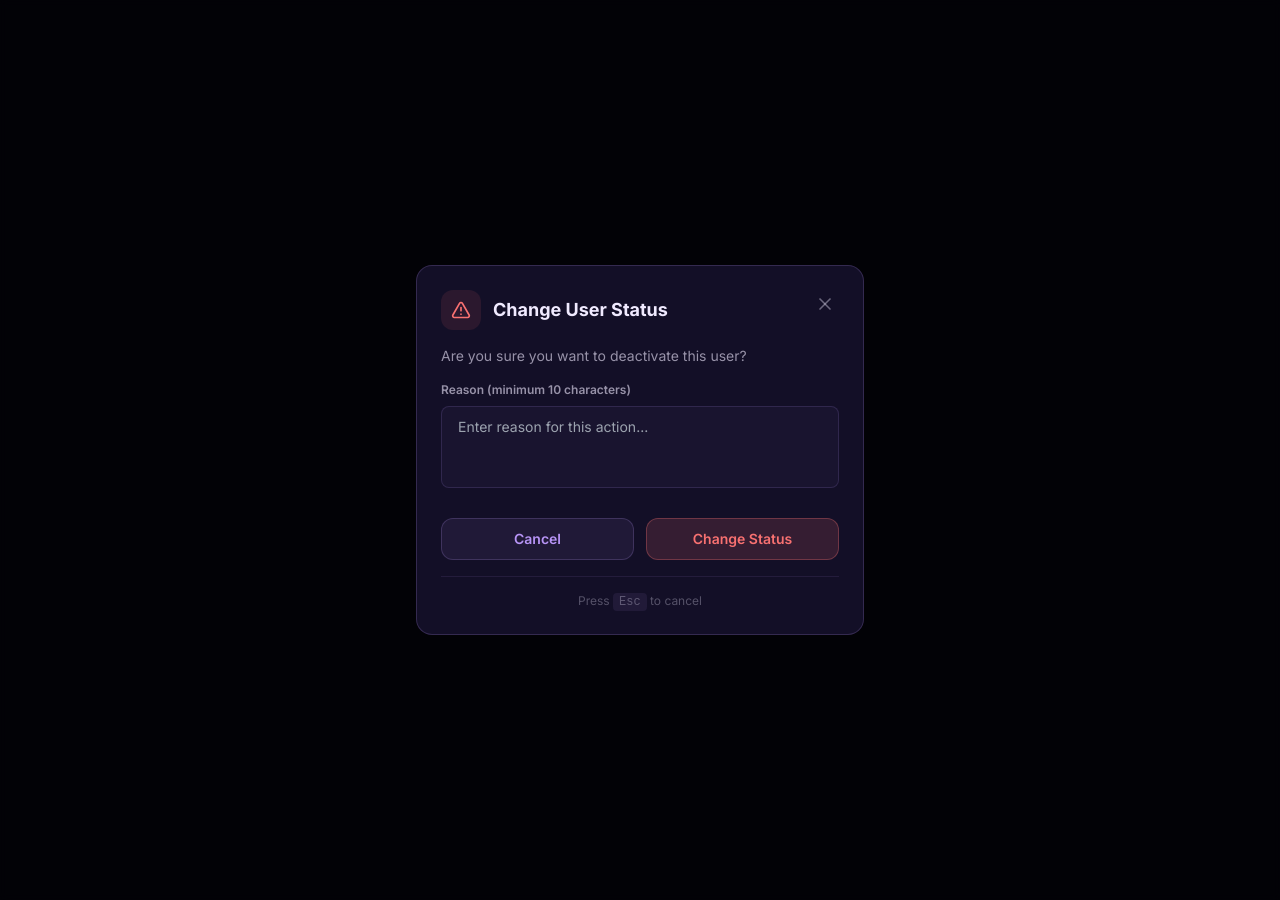
Test case: ConfirmationDialog - Status Change Reason Validation › should require reason input with minimum 10 characters for deactivation
This screenshot has width=1280, height=900.
Expected: the text box with placeholder "Enter reason for this action..." is shown, [441, 406, 839, 488]
// Try to confirm without entering reason
Click the button "Change Status": (742, 539) [646, 518, 839, 560]
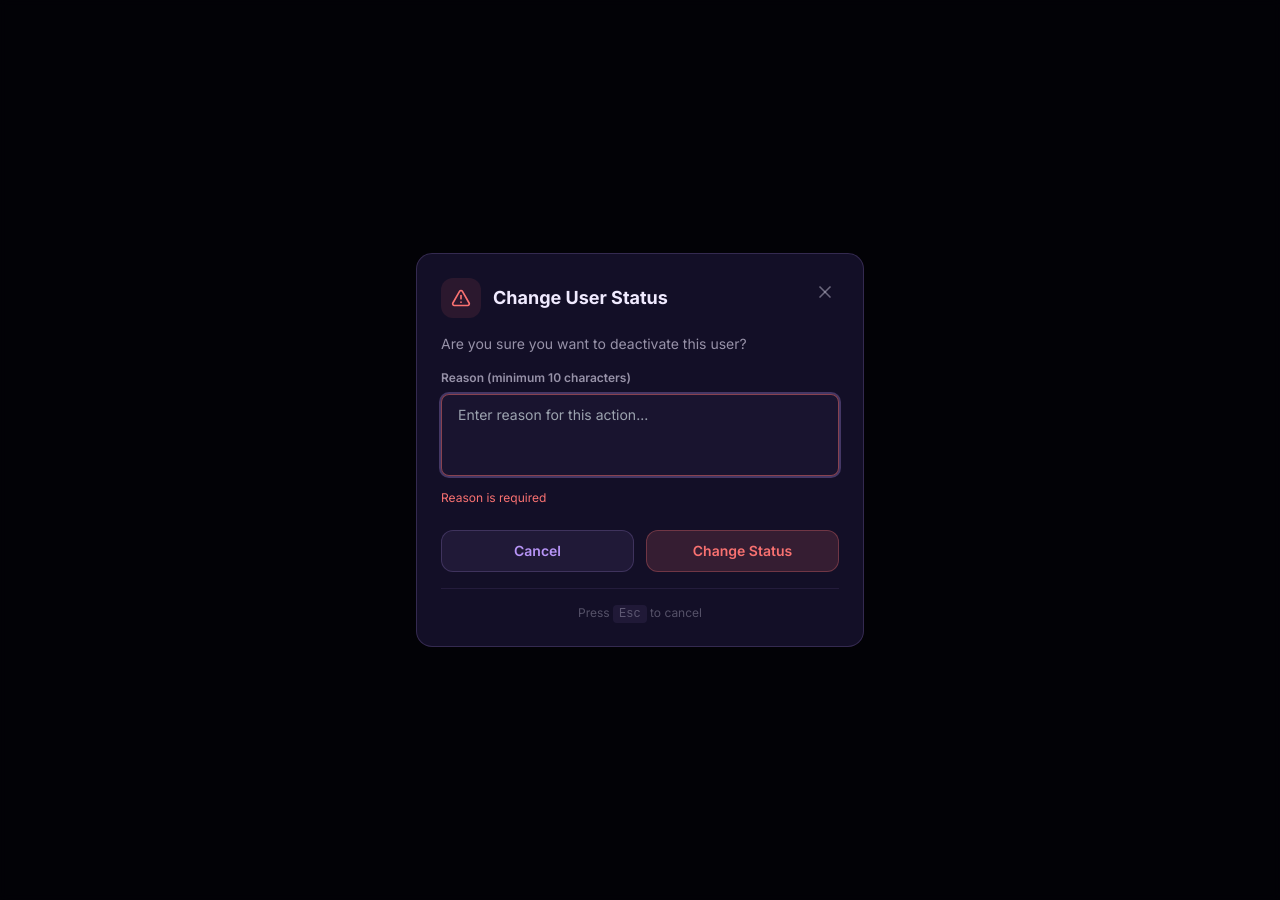
Expected: the text "Reason is required" is shown, [441, 490, 546, 505]
